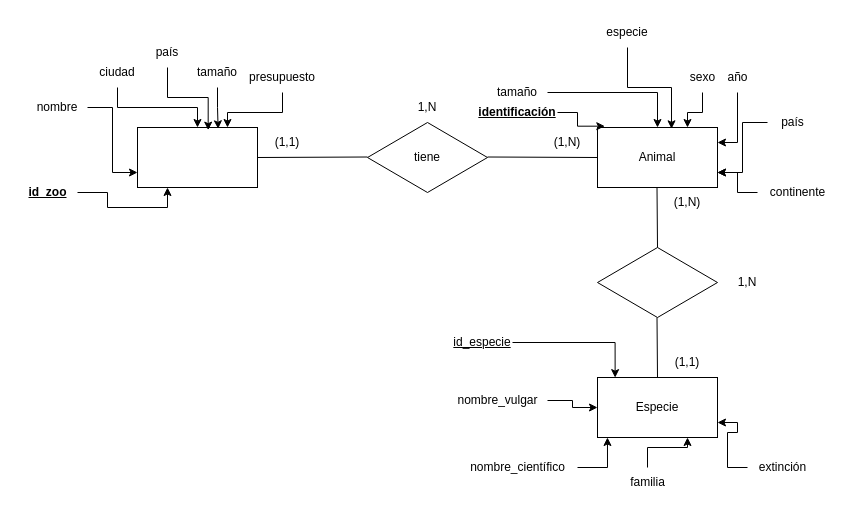
Some shapes in this 854 by 514 pixel diagram are drawn without their labels. Each missing label, with the box of its shape:
pertenece a: (596, 246, 718, 318)
Zoo: (136, 126, 258, 188)
